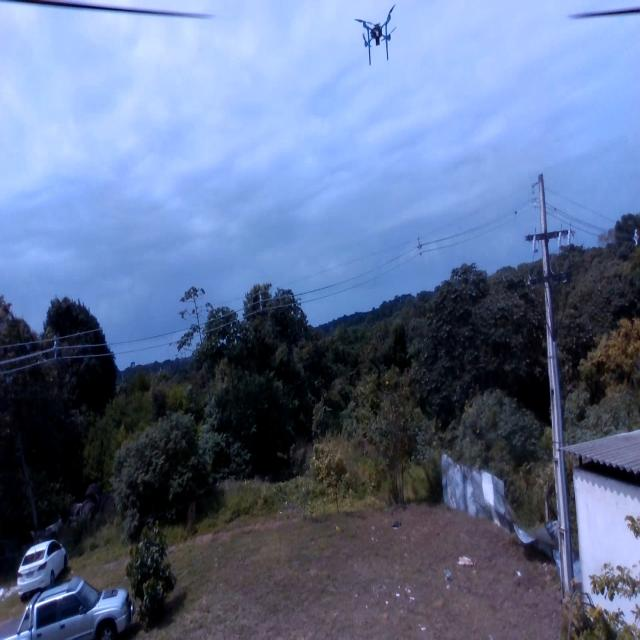-uav-: (347, 1, 403, 74)
